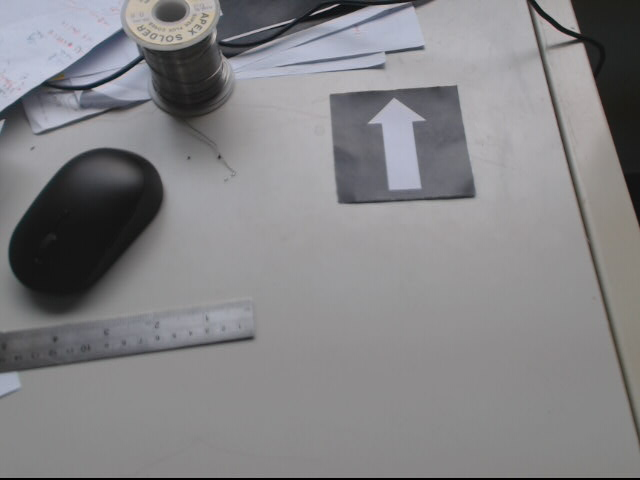straight: (329, 84, 475, 205)
